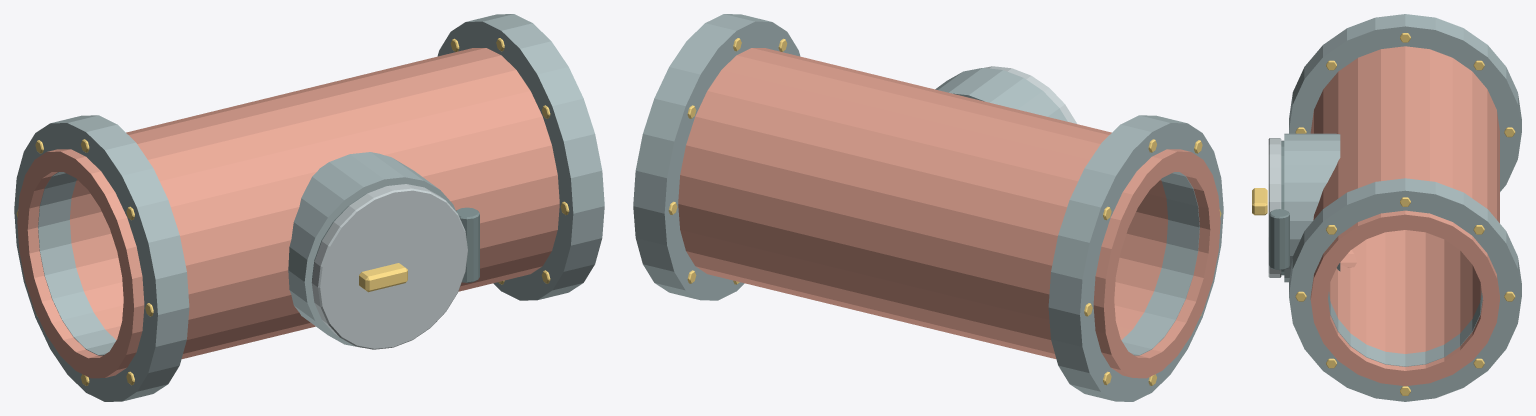
The model's file is Systems-PipeInspectionPort.fbx.
3 views of the same model, side by side, from view 1: azimuth 30°, elevation 25°; view 2: azimuth 150°, elevation 25°; view 3: azimuth 270°, elevation 25° (orthographic). The views are drawn at different scales.
Visible parts, largest first — view 1: Pipe Body, Connector Flange, Inspection Cover, Connector Flange.001, Access Collar, Hinge Barrel, Flange Bolt Mesh, Cover Handle; view 2: Pipe Body, Connector Flange, Connector Flange.001, Access Collar, Flange Bolt Mesh, Inspection Cover; view 3: Pipe Body, Connector Flange.001, Connector Flange, Access Collar, Hinge Barrel, Flange Bolt Mesh, Inspection Cover, Cover Handle, Cover Seal.
Part boxes in pixels (x1,y1,x2,y2): Pipe Body: [17, 48, 559, 378]; Connector Flange: [14, 115, 189, 401]; Inspection Cover: [311, 184, 467, 349]; Connector Flange.001: [437, 14, 604, 300]; Access Collar: [288, 152, 456, 347]; Hinge Barrel: [456, 207, 479, 282]; Flange Bolt Mesh: [16, 38, 569, 385]; Cover Handle: [359, 263, 407, 292]; Pipe Body: [678, 48, 1220, 378]; Connector Flange: [1048, 115, 1223, 401]; Connector Flange.001: [633, 14, 800, 300]; Access Collar: [935, 68, 1067, 121]; Flange Bolt Mesh: [668, 38, 1221, 385]; Inspection Cover: [984, 66, 1076, 123]; Pipe Body: [1310, 46, 1499, 386]; Connector Flange.001: [1289, 178, 1521, 401]; Connector Flange: [1289, 14, 1521, 191]; Access Collar: [1284, 133, 1340, 282]; Hinge Barrel: [1269, 209, 1289, 270]; Flange Bolt Mesh: [1295, 33, 1515, 395]; Inspection Cover: [1268, 138, 1281, 277]; Cover Handle: [1252, 188, 1267, 215]; Cover Seal: [1281, 140, 1284, 275].
Bounding box in the file's own units: 1.04 × 0.554 × 0.6415.
